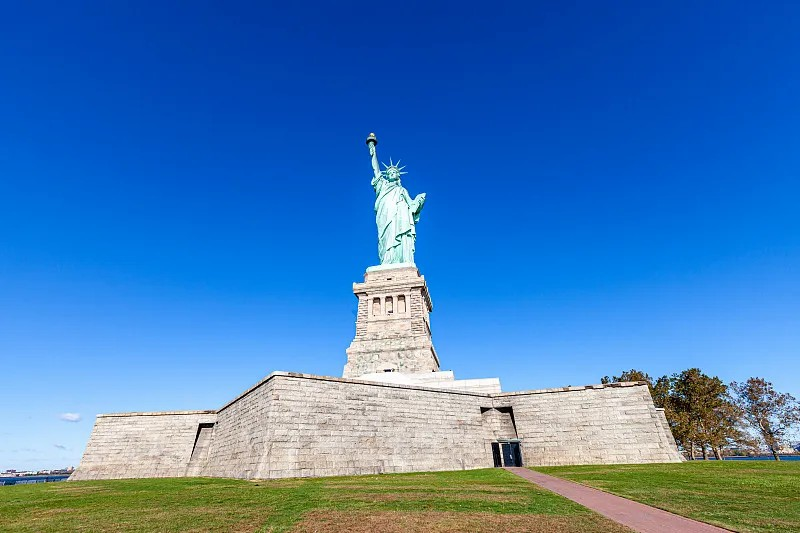SL: (341, 131, 440, 377)
